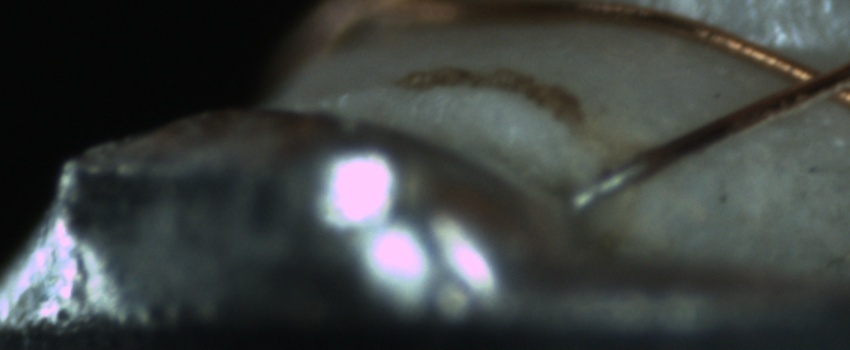CL: (764, 49, 849, 115)
TS: (567, 158, 650, 212)
